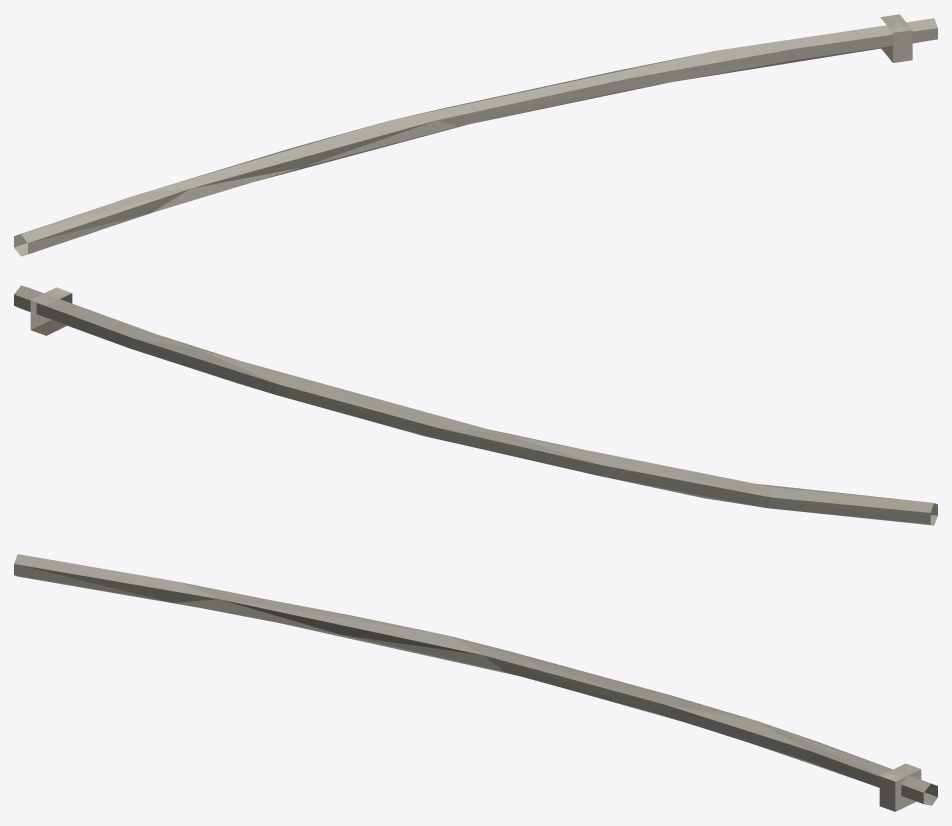
3 renders of one model, top to bottom at view 1: azimuth 30°, elevation 25°; view 2: azimuth 150°, elevation 25°; view 3: azimuth 330°, elevation 25°, orthographic.
Size of the model in its own units: 1.02 by 0.0384 by 0.0825.
